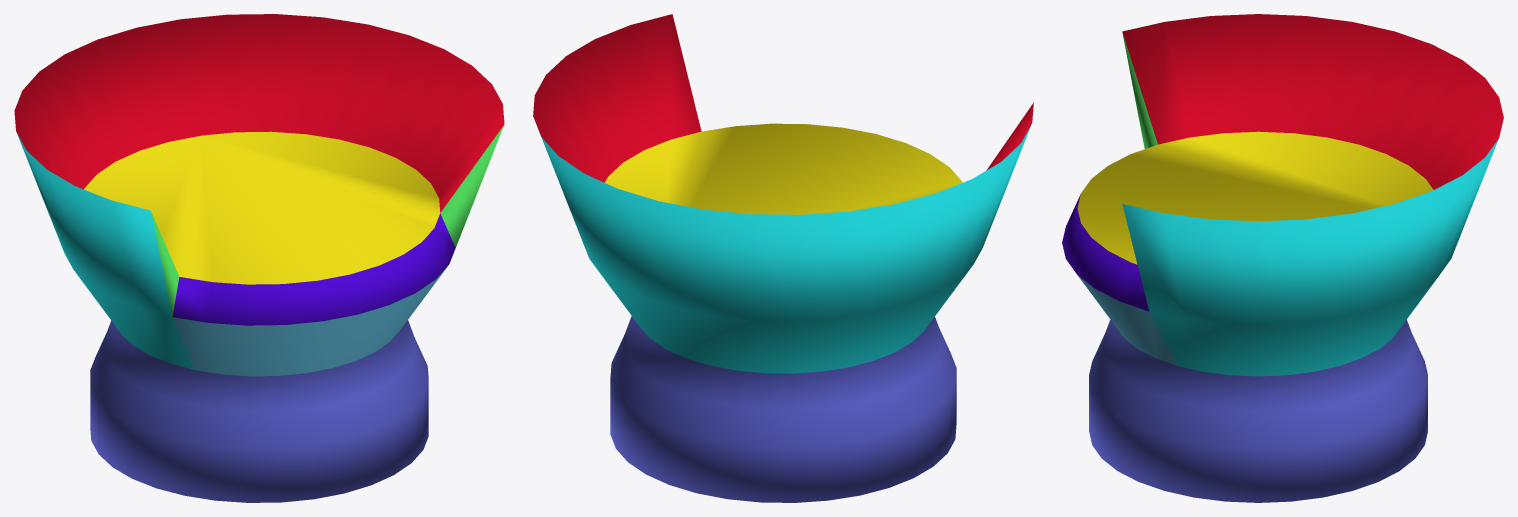
Rendered from Cup.fbx.
3 views of the same model, side by side, from view 1: azimuth 30°, elevation 25°; view 2: azimuth 150°, elevation 25°; view 3: azimuth 270°, elevation 25° (orthographic). The views are drawn at different scales.
Visible parts, largest first — view 1: Cylinder; view 2: Cylinder; view 3: Cylinder.
Boxes of the visible parts, x1,y1,x2,y2 form: Cylinder: [14, 14, 504, 502]; Cylinder: [533, 14, 1033, 502]; Cylinder: [1062, 14, 1503, 502].
Size of the model in its own units: 271 by 191 by 244.
